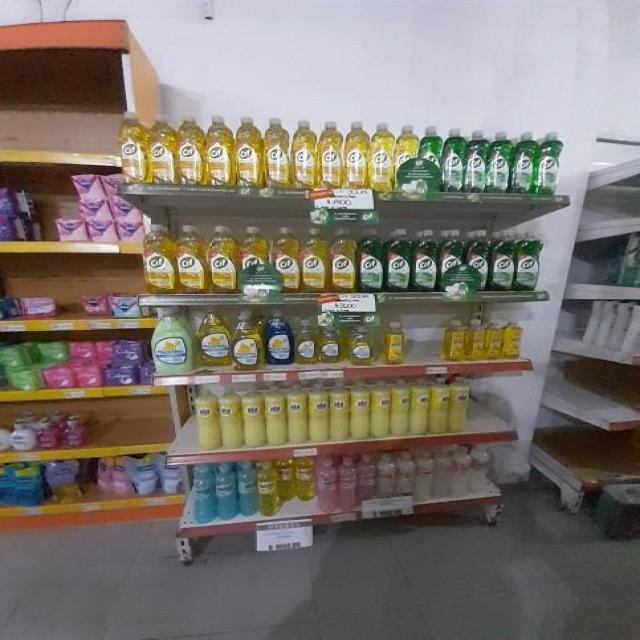ala_conc_amarillo: (292, 118, 316, 190), (318, 120, 343, 189), (344, 120, 368, 190)
ala_crem_amarillo: (193, 386, 218, 452), (219, 388, 241, 450), (242, 388, 264, 449), (265, 388, 286, 446), (287, 386, 307, 445), (350, 383, 370, 441), (329, 385, 349, 442), (308, 386, 328, 443), (370, 381, 389, 439), (391, 380, 409, 438)
cif_conc_bot_amarilla: (142, 223, 174, 295), (239, 225, 271, 293), (118, 111, 147, 185), (208, 225, 237, 295), (177, 225, 206, 295), (148, 114, 176, 186), (206, 114, 233, 188), (235, 115, 262, 189), (177, 115, 205, 186), (264, 116, 290, 189), (301, 227, 328, 293), (369, 122, 394, 193), (273, 226, 299, 294), (330, 227, 356, 294), (395, 123, 417, 194)
cif_conc_botella_verde: (358, 228, 385, 294), (386, 228, 412, 293), (418, 125, 442, 193), (440, 229, 465, 293), (516, 229, 541, 292), (414, 228, 438, 293), (488, 130, 512, 195), (466, 229, 490, 293), (491, 230, 515, 292), (443, 127, 465, 194), (513, 131, 536, 195), (466, 129, 487, 194)
magistral_con_amarillo: (194, 308, 230, 371), (233, 310, 263, 371), (347, 325, 378, 367), (319, 317, 345, 365), (294, 318, 318, 366)
magistral_con_azul: (264, 311, 292, 367)
magistral_con_crema: (151, 307, 192, 376)
